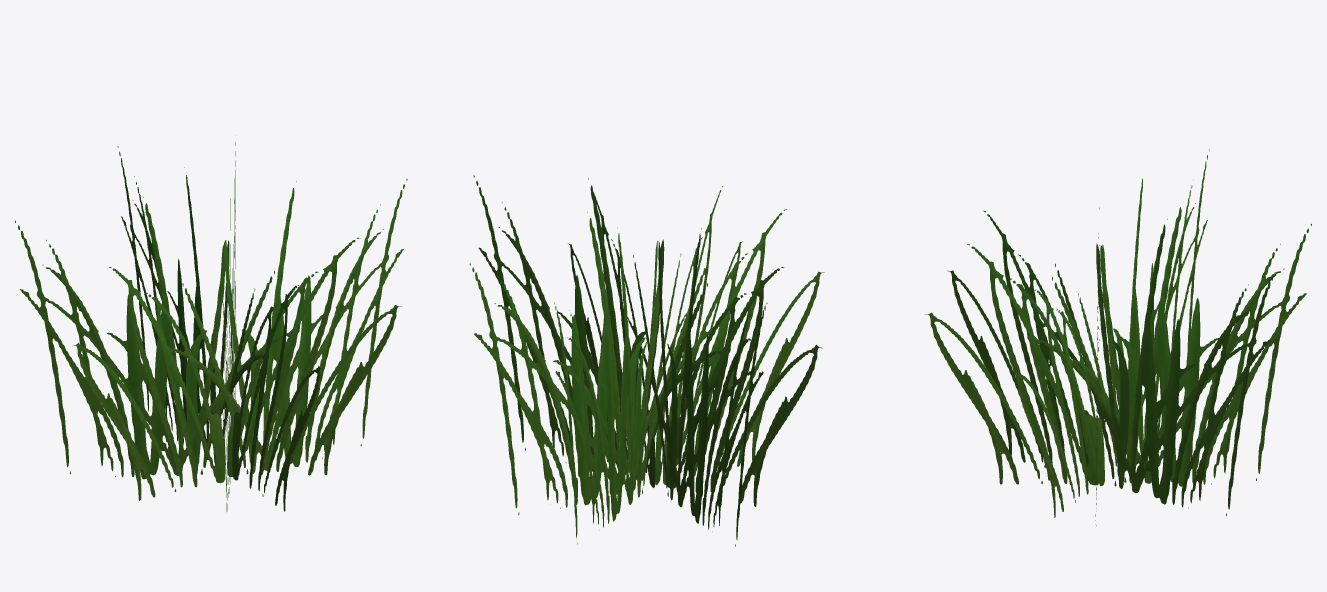
File: grassblade-59.glb
3 renders of one model, left to right at view 1: azimuth 30°, elevation 25°; view 2: azimuth 150°, elevation 25°; view 3: azimuth 270°, elevation 25°, orthographic. The views are drawn at different scales.
Parts seen in each view (by area): view 1: grassblade_59; view 2: grassblade_59; view 3: grassblade_59.
Part boxes in pixels (bbox=[...]): grassblade_59: bbox=[15, 142, 407, 511]; grassblade_59: bbox=[469, 175, 824, 546]; grassblade_59: bbox=[924, 149, 1311, 525].
Bounding box in the file's own units: 9.27 × 9.27 × 9.27.
1 material, 1 textured.
